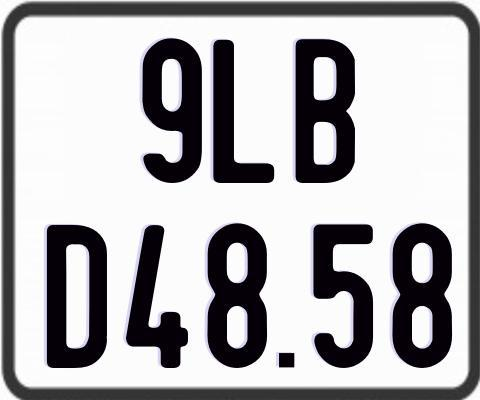4: (126, 222, 190, 369)
5: (310, 223, 371, 367)
8: (205, 223, 268, 374), (389, 223, 453, 371)
9: (142, 36, 208, 186)
B: (296, 38, 356, 183)
D: (45, 225, 110, 372)
L: (210, 39, 275, 185)
